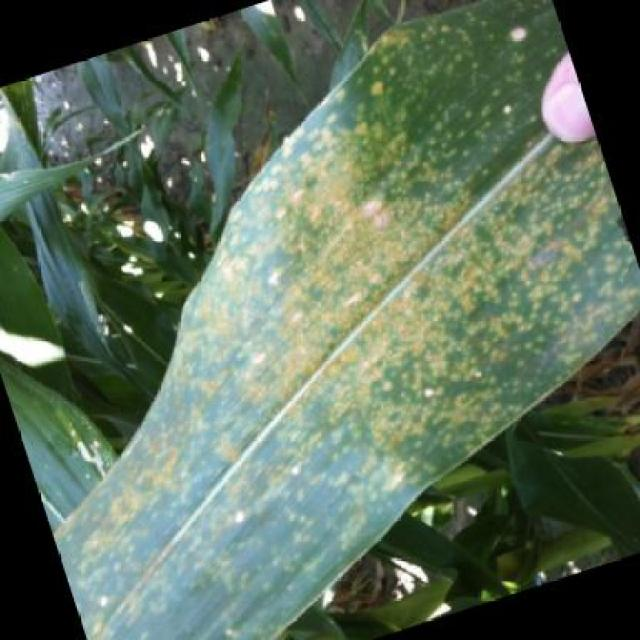Corn_Rust: (65, 123, 549, 580)
